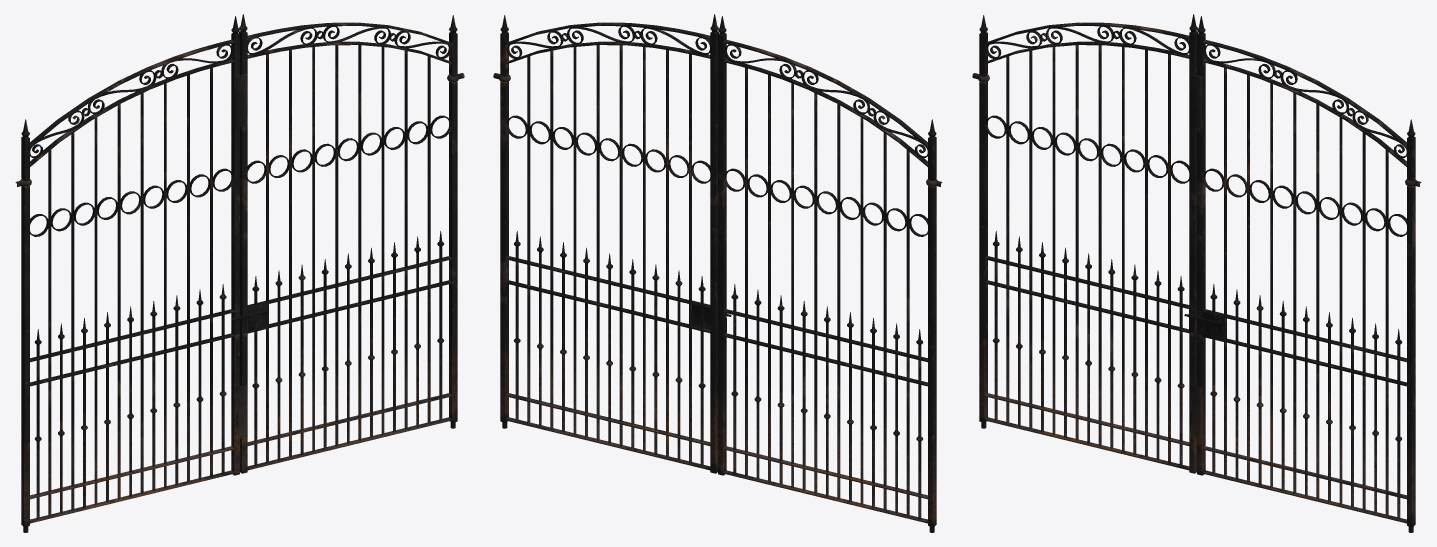
The model's file is large_iron_gate.glb.
3 renders of one model, left to right at view 1: azimuth 30°, elevation 25°; view 2: azimuth 150°, elevation 25°; view 3: azimuth 330°, elevation 25°, orthographic.
Visible parts, largest first — view 1: large_iron_gate_right_door, large_iron_gate_left_door; view 2: large_iron_gate_left_door, large_iron_gate_right_door; view 3: large_iron_gate_right_door, large_iron_gate_left_door.
Boxes of the visible parts, box(x1,y1,x2,y2) form: large_iron_gate_right_door: box(235, 14, 457, 473); large_iron_gate_left_door: box(21, 16, 241, 532); large_iron_gate_left_door: box(718, 16, 936, 532); large_iron_gate_right_door: box(500, 14, 718, 473); large_iron_gate_right_door: box(1190, 16, 1415, 532); large_iron_gate_left_door: box(979, 14, 1197, 473).
Bounding box in the file's own units: 2.95 × 2.93 × 0.0973.
1 material, 1 textured.
